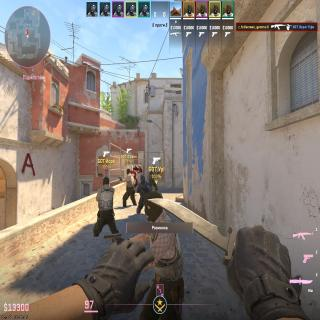CT-Body: (137, 174, 150, 212), (150, 164, 157, 192)
CT-Head: (140, 174, 146, 183), (153, 165, 156, 167)
T-Body: (139, 190, 185, 320), (94, 176, 115, 236), (124, 169, 135, 206)
T-Head: (146, 190, 162, 221), (102, 177, 110, 186), (126, 168, 131, 174)
